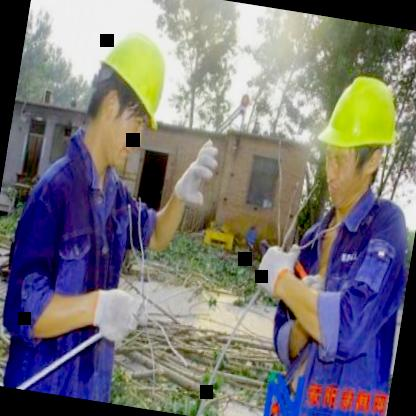helmet: (68, 9, 182, 180), (301, 60, 410, 218)
